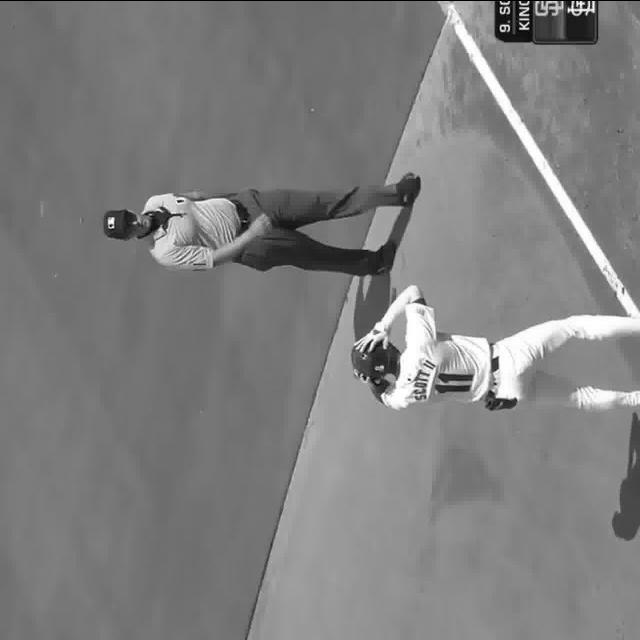shoe: (372, 234, 398, 279), (392, 170, 418, 212)
